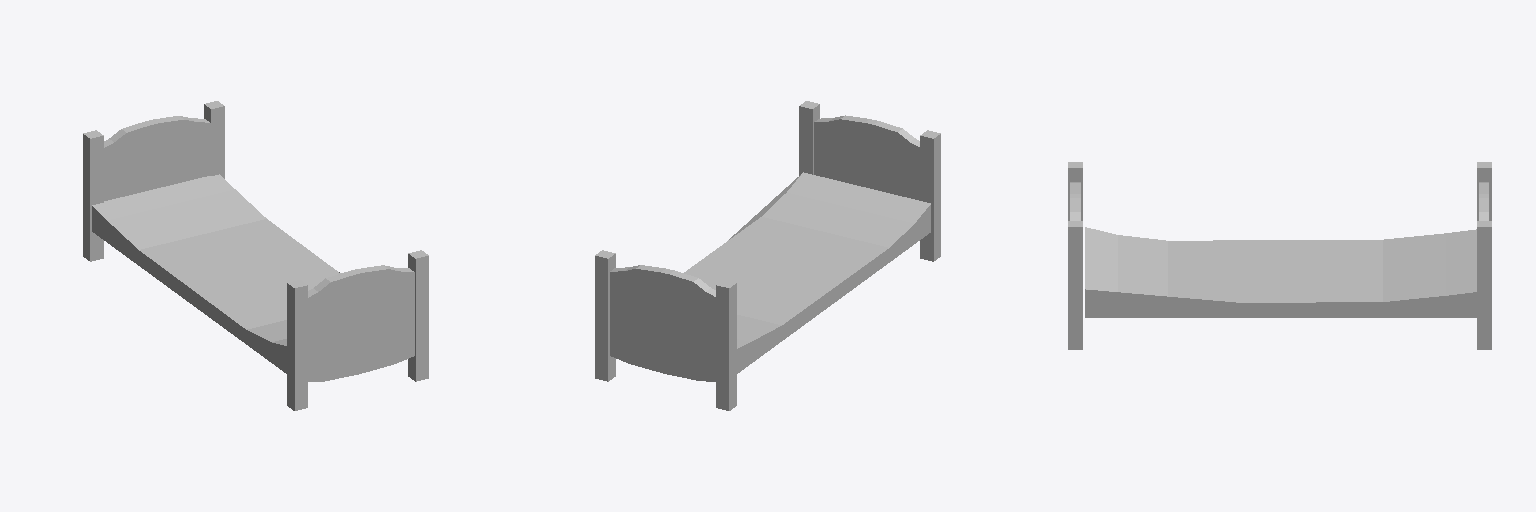
The model's file is VG_Bed.obj.
3 renders of one model, left to right at view 1: azimuth 30°, elevation 25°; view 2: azimuth 150°, elevation 25°; view 3: azimuth 270°, elevation 25°, orthographic.
Visible parts, largest first — view 1: Cube_Cube.003, CotéLit.002_Pied1.007, CotéLit.000_Pied1.006; view 2: Cube_Cube.003, CotéLit.000_Pied1.006, CotéLit.002_Pied1.007; view 3: Cube_Cube.003, CotéLit.000_Pied1.006, CotéLit.002_Pied1.007.
Part boxes in pixels (x1,y1,x2,y2): Cube_Cube.003: (92,174,340,373); CotéLit.002_Pied1.007: (287,250,428,410); CotéLit.000_Pied1.006: (83,101,224,261); Cube_Cube.003: (684,172,930,373); CotéLit.000_Pied1.006: (595,250,736,410); CotéLit.002_Pied1.007: (799,101,940,261); Cube_Cube.003: (1085,227,1476,317); CotéLit.000_Pied1.006: (1477,162,1491,349); CotéLit.002_Pied1.007: (1068,162,1082,349).
Size of the model in its own units: 9.99 by 8.72 by 27.23.